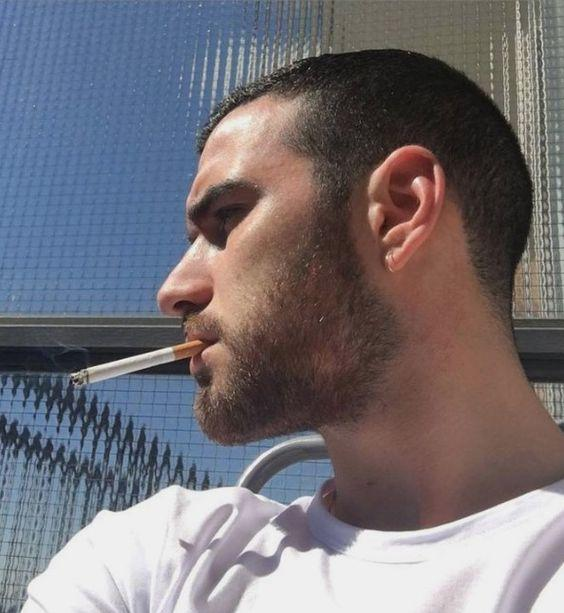cigarette: (71, 340, 205, 385)
